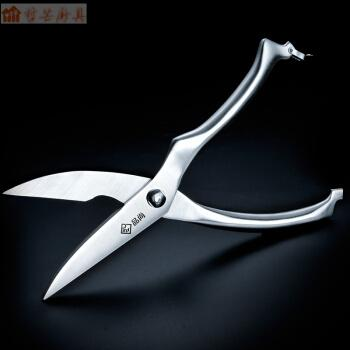scissor: (19, 55, 350, 295)
